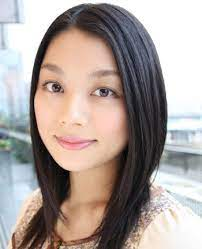person: (26, 1, 167, 178)
